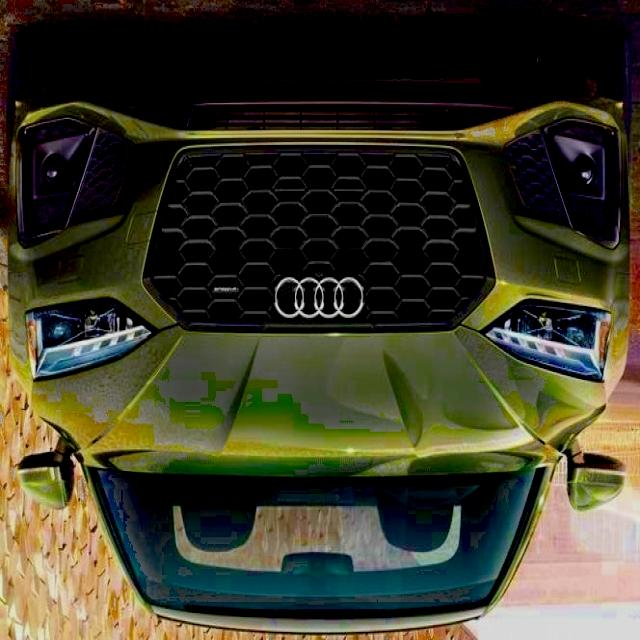green: (2, 6, 633, 634)
